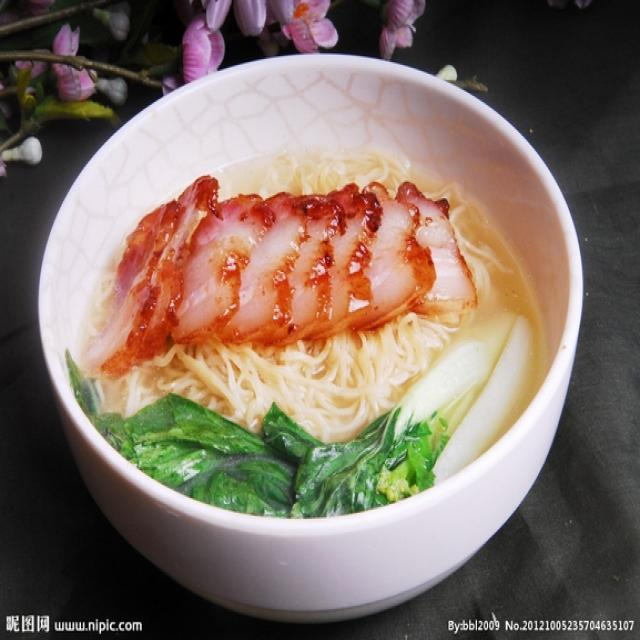面条主食: (70, 103, 563, 544)
